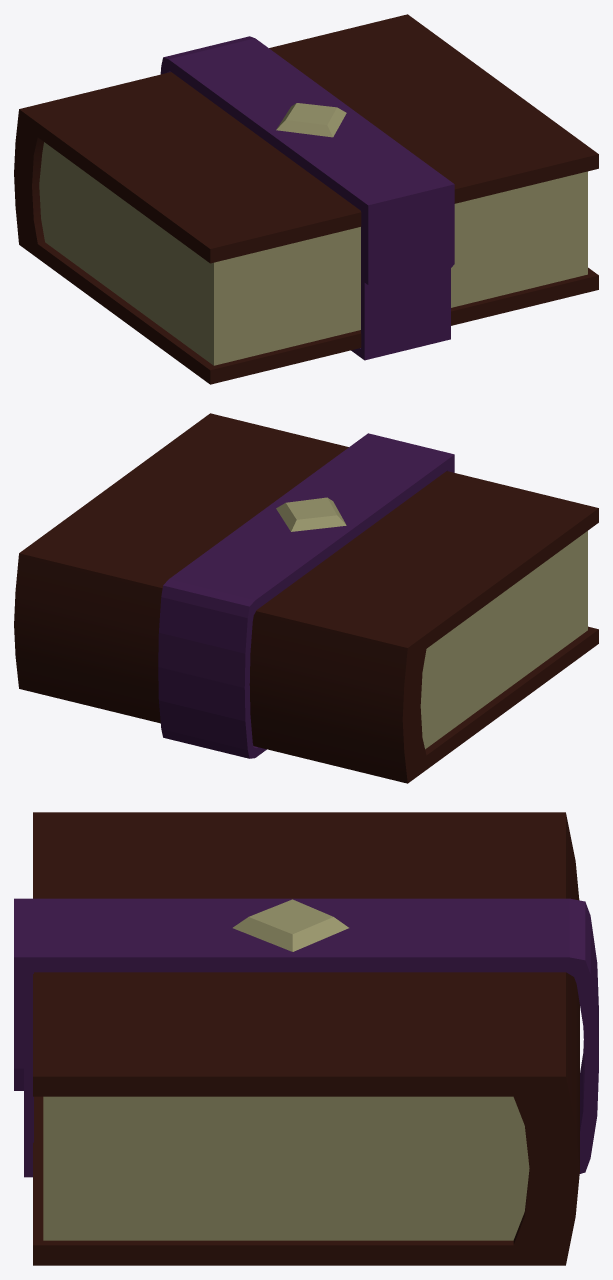
Rendered from LP_Book_001.fbx.
3 views of the same model, one above another, from view 1: azimuth 30°, elevation 25°; view 2: azimuth 150°, elevation 25°; view 3: azimuth 270°, elevation 25° (orthographic). The views are drawn at different scales.
Visible parts, largest first — view 1: BookCover_001, Strip_001; view 2: BookCover_001, Strip_001; view 3: BookCover_001, Strip_001.
Part boxes in pixels (box(x1,y1,x2,y2)): BookCover_001: box(14, 14, 598, 384); Strip_001: box(160, 36, 454, 360); BookCover_001: box(14, 413, 598, 783); Strip_001: box(158, 433, 454, 758); BookCover_001: box(33, 812, 579, 1265); Strip_001: box(14, 898, 598, 1177).
Size of the model in its own units: 11.81 by 4.81 by 11.05.
